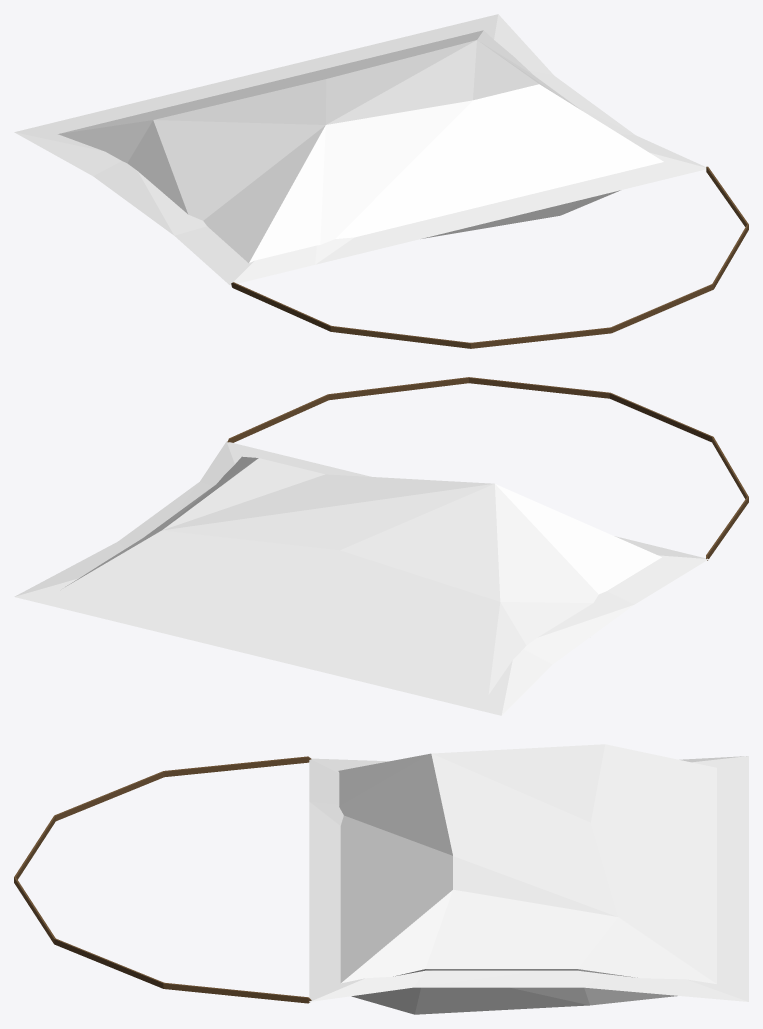
The picture shows the model from 3 angles, top to bottom: view 1: azimuth 30°, elevation 25°; view 2: azimuth 150°, elevation 25°; view 3: azimuth 270°, elevation 25°; orthographic projection. The views are drawn at different scales.
Visible parts, largest first — view 1: roman marching camp loculus leather bag; view 2: roman marching camp loculus leather bag; view 3: roman marching camp loculus leather bag.
Part boxes in pixels (bbox=[...]): roman marching camp loculus leather bag: bbox=[14, 14, 748, 348]; roman marching camp loculus leather bag: bbox=[14, 377, 748, 715]; roman marching camp loculus leather bag: bbox=[14, 744, 748, 1014].
Size of the model in its own units: 18.1 by 5.09 by 22.85.
